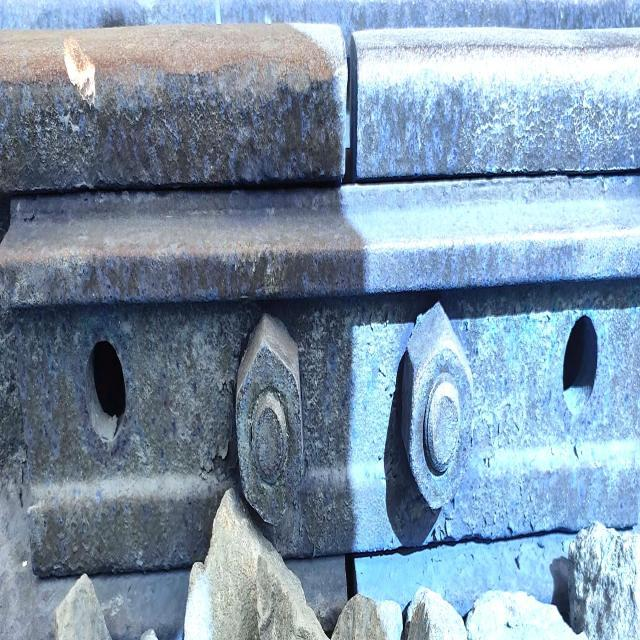Defective Joint: (6, 180, 637, 585)
